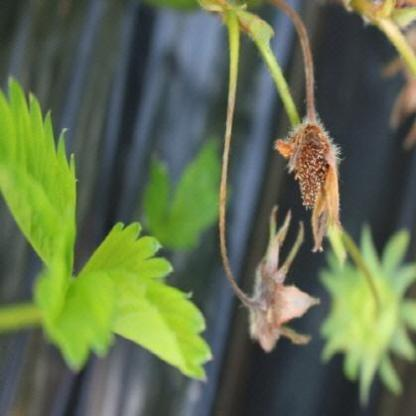Strawberry_Gray_Mold: (244, 204, 324, 352), (274, 111, 342, 253)
